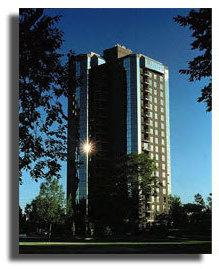building: (65, 42, 172, 236)
